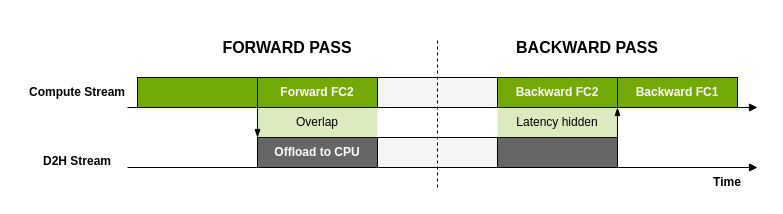
Some shapes in this 783 by 214 pixel diagram are drawn without their labels. Here are the shapes that lost their labels. From the top down, the centre of each, then its label:
At (x=197, y=92): "Forward FC1".
At (x=557, y=152): "Prefetch from CPU".
